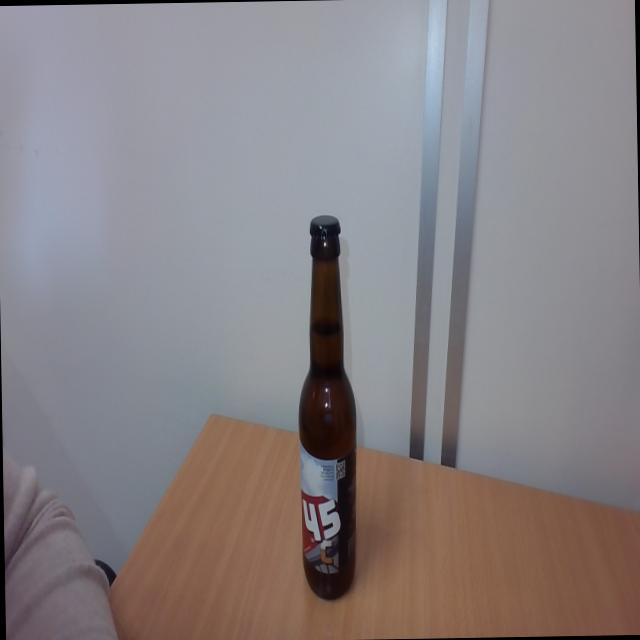Bottle: (296, 243, 358, 602)
Cap: (308, 210, 342, 242)
Label: (298, 446, 358, 576)
